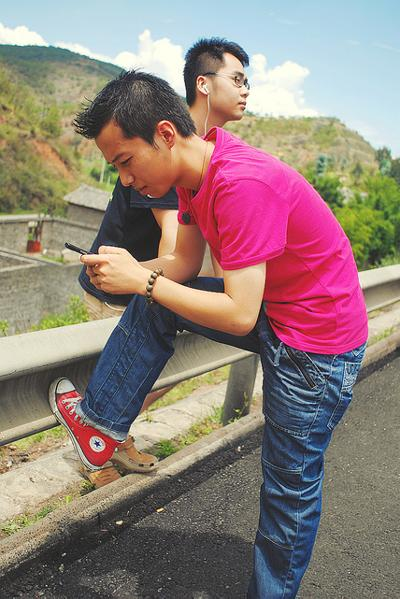person: (49, 71, 370, 599)
